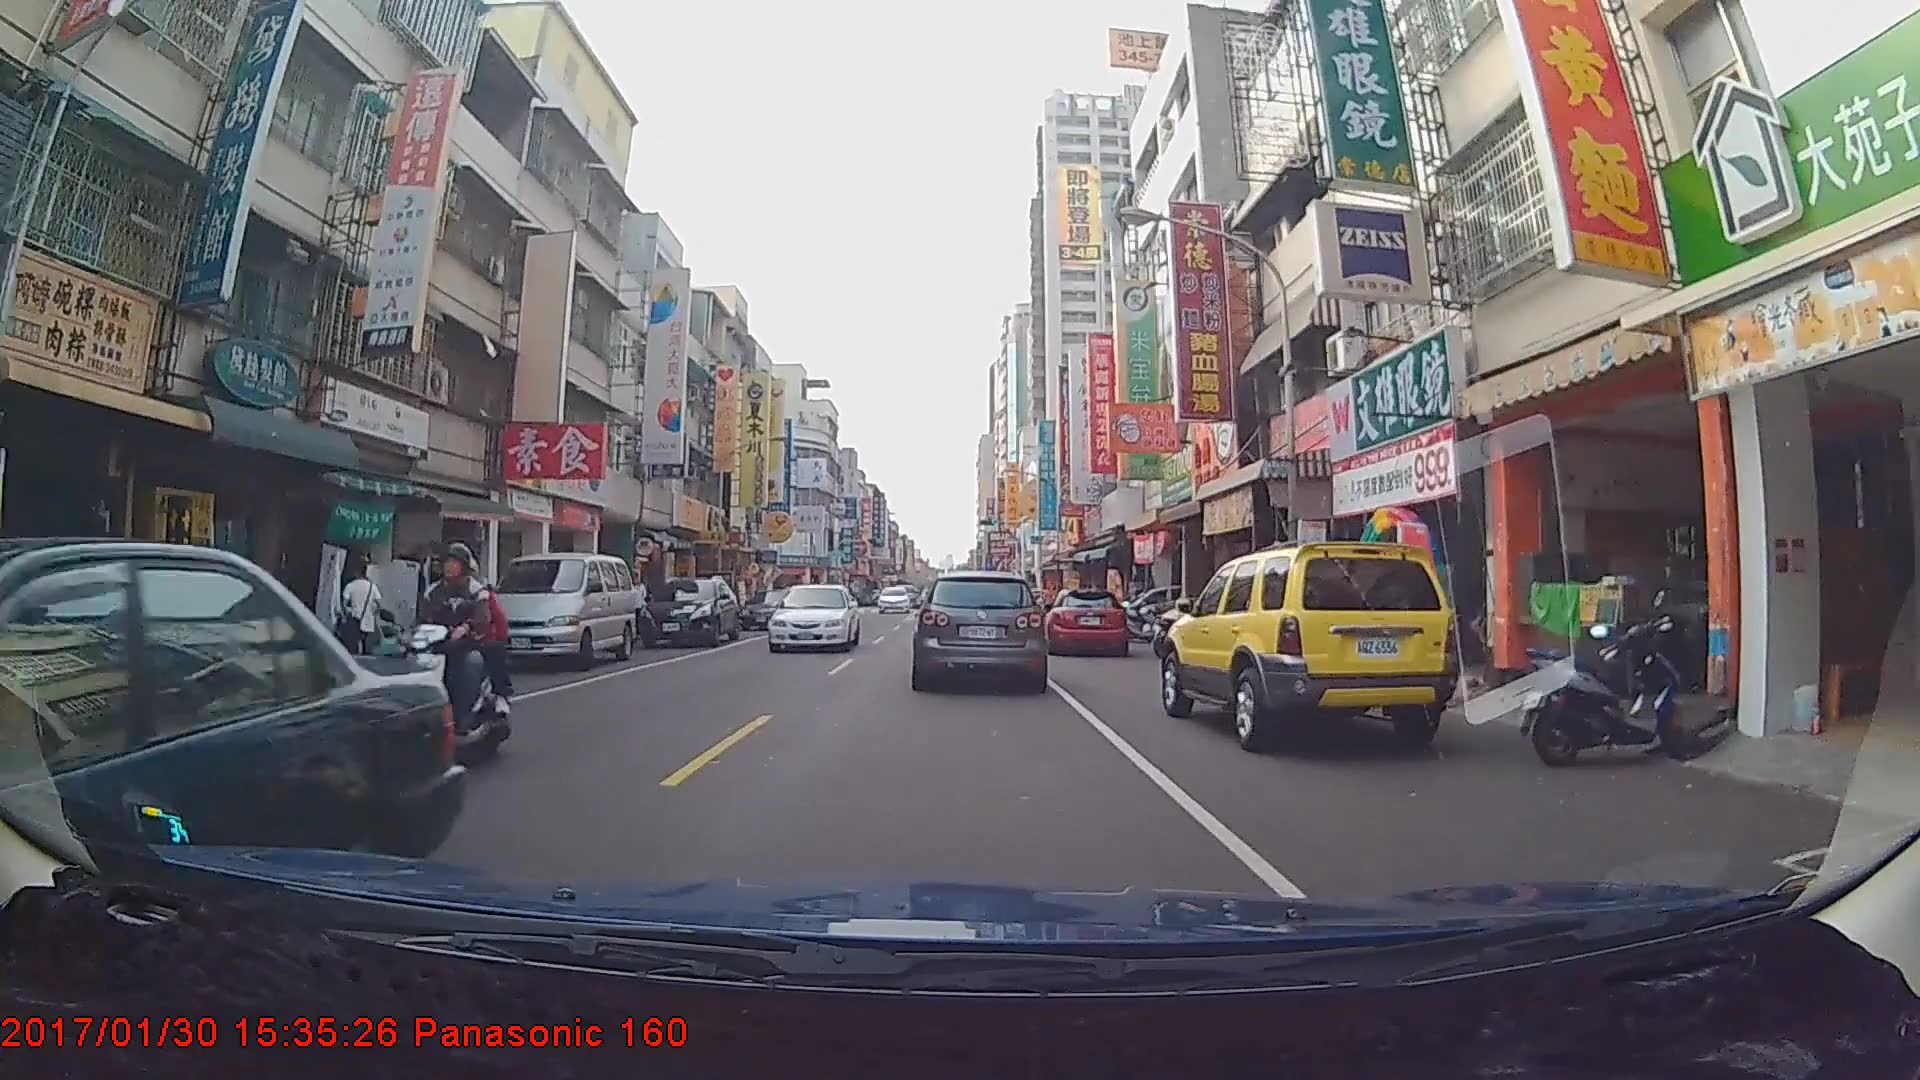pedestrian: (335, 557, 384, 681)
rider: (372, 536, 523, 790)
vehicle: (0, 538, 460, 987), (1161, 532, 1454, 748), (486, 553, 634, 672), (914, 570, 1044, 689), (634, 576, 740, 648), (768, 584, 860, 654), (1042, 588, 1130, 657), (740, 589, 803, 632), (877, 586, 911, 615)
